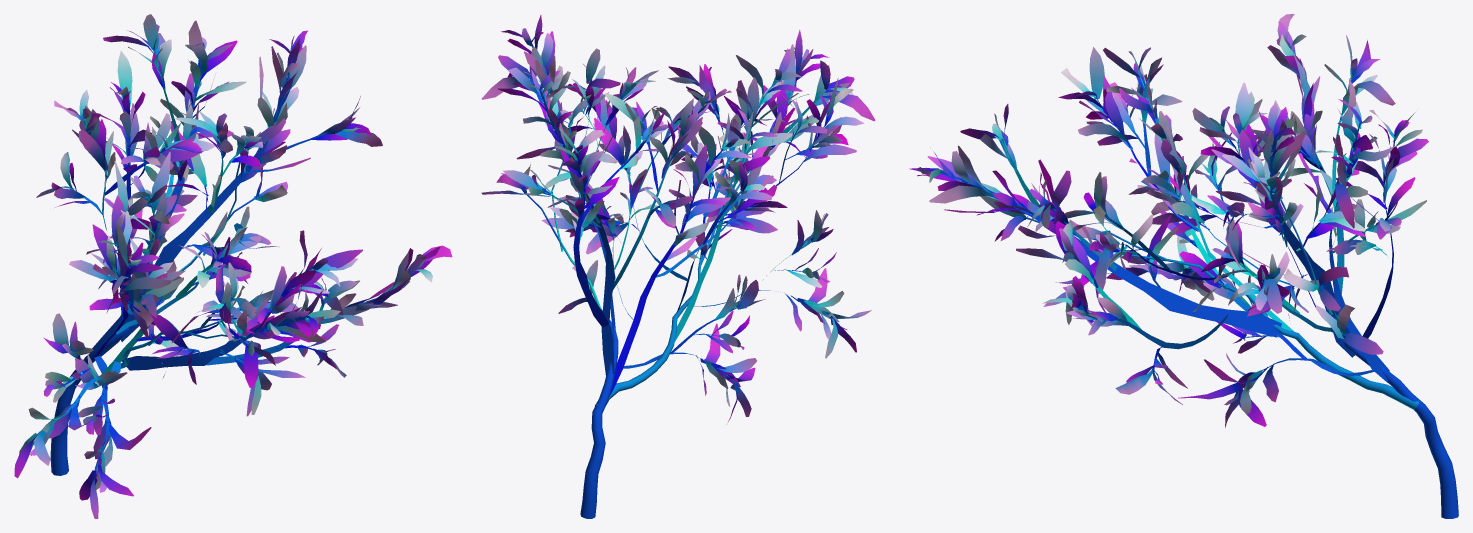
File: Downy_Willow_wknlfiuqx_Mid_wknlfiuqx_VarB_LOD1.fbx
The picture shows the model from 3 angles, left to right: view 1: azimuth 30°, elevation 25°; view 2: azimuth 150°, elevation 25°; view 3: azimuth 270°, elevation 25°; orthographic projection. The views are drawn at different scales.
Parts seen in each view (by area): view 1: _jsgz_VarB_LOD2; view 2: _jsgz_VarB_LOD2; view 3: _jsgz_VarB_LOD2.
Part boxes in pixels (x1,y1,x2,y2): _jsgz_VarB_LOD2: (14,14,452,518); _jsgz_VarB_LOD2: (481,15,875,518); _jsgz_VarB_LOD2: (909,14,1458,518).
Size of the model in its own units: 77.86 by 90.79 by 90.93.
